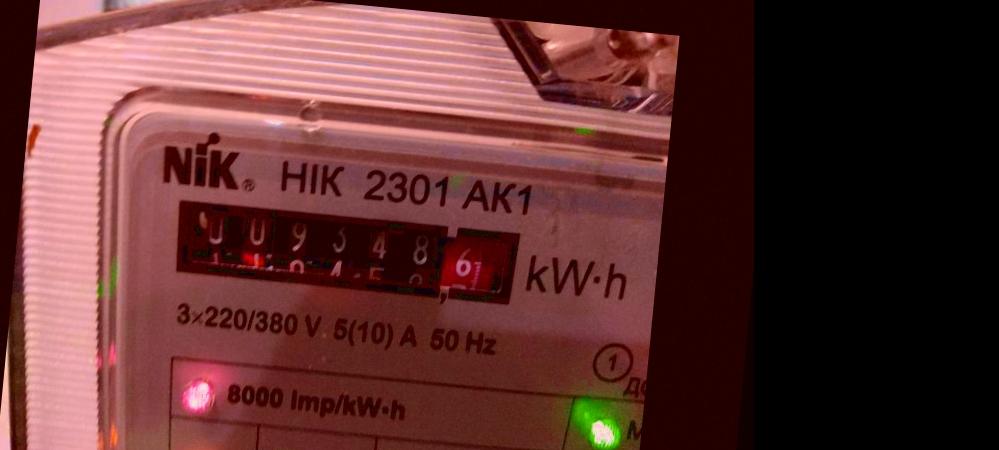0: (244, 211, 269, 249), (203, 209, 227, 246)
3: (326, 220, 351, 254)
4: (366, 224, 390, 262)
6: (452, 242, 477, 278)
8: (409, 230, 432, 265)
9: (287, 216, 308, 252)
screen: (147, 182, 540, 320)
